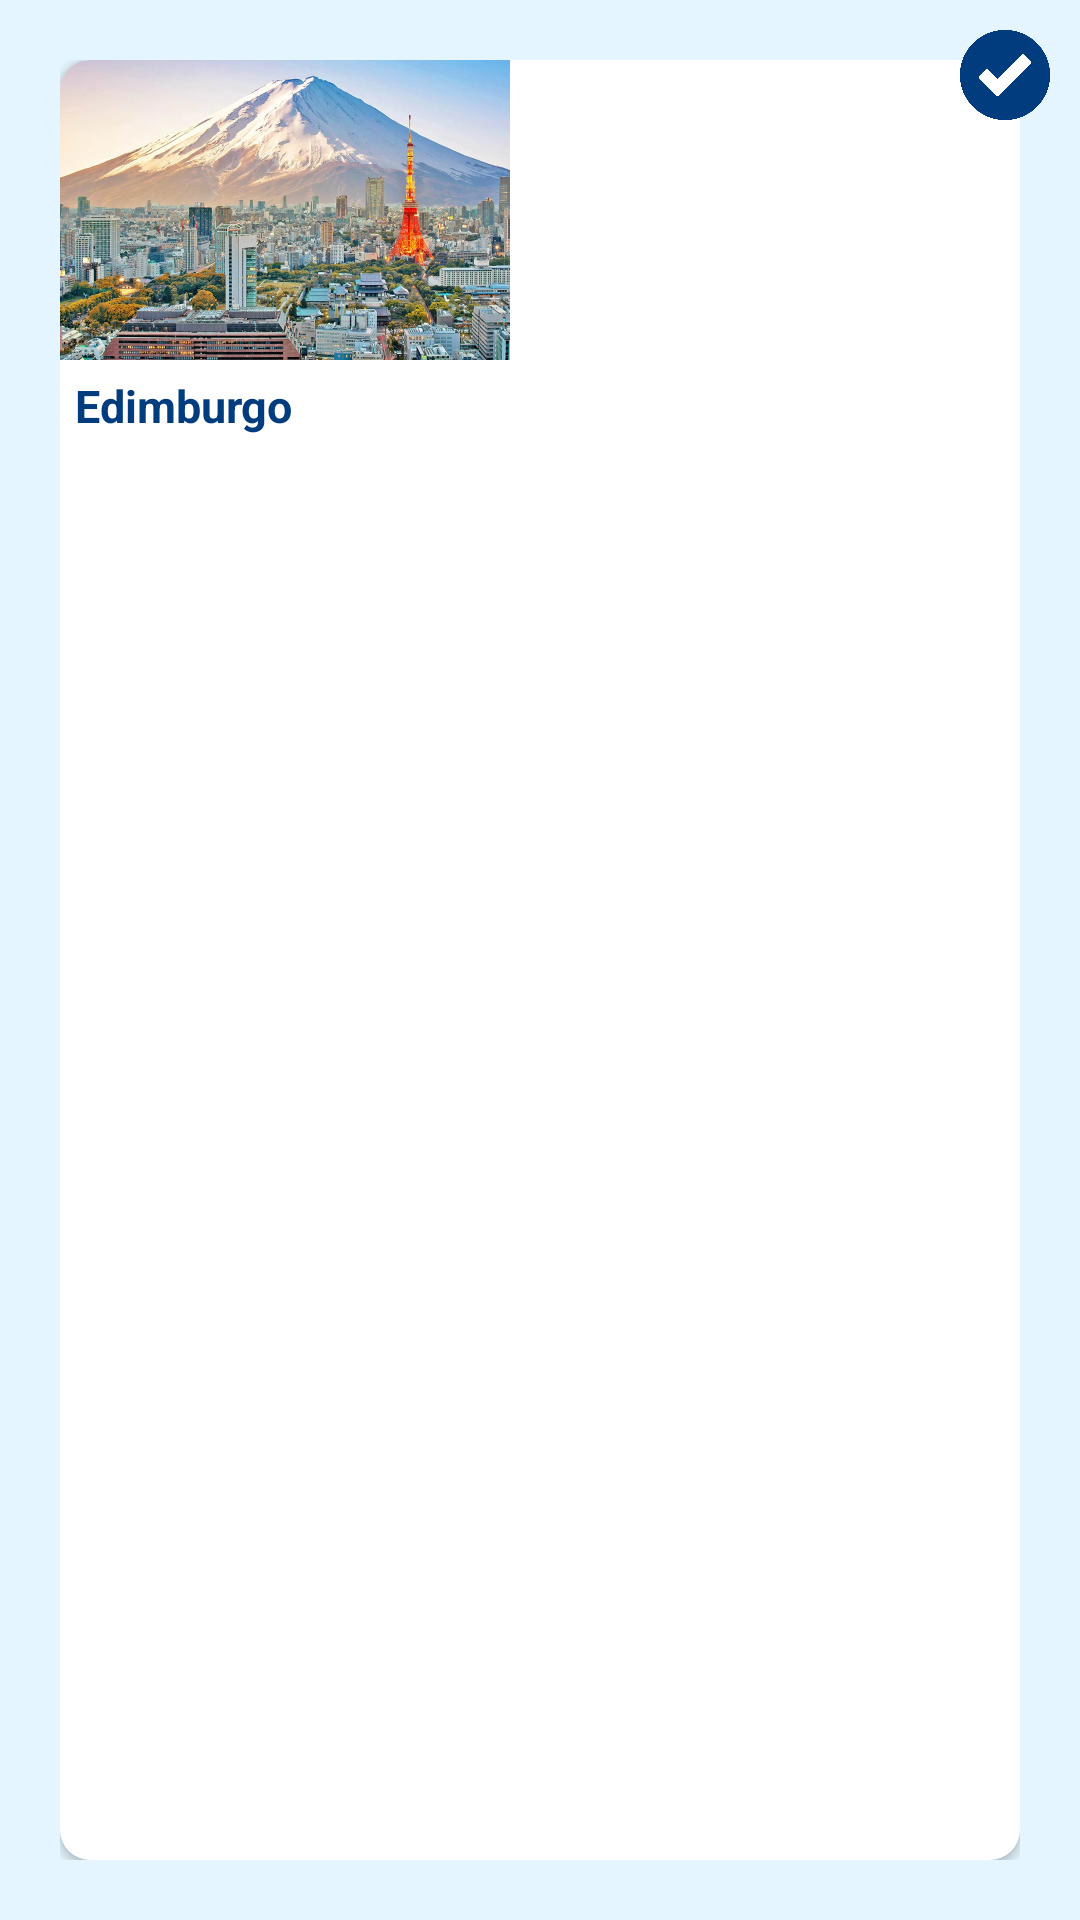

Locate icon controls on the screen. Image size 1080*1920, boxes as (x1,y1,x2,y2).
accept: (960,30,1050,120)
